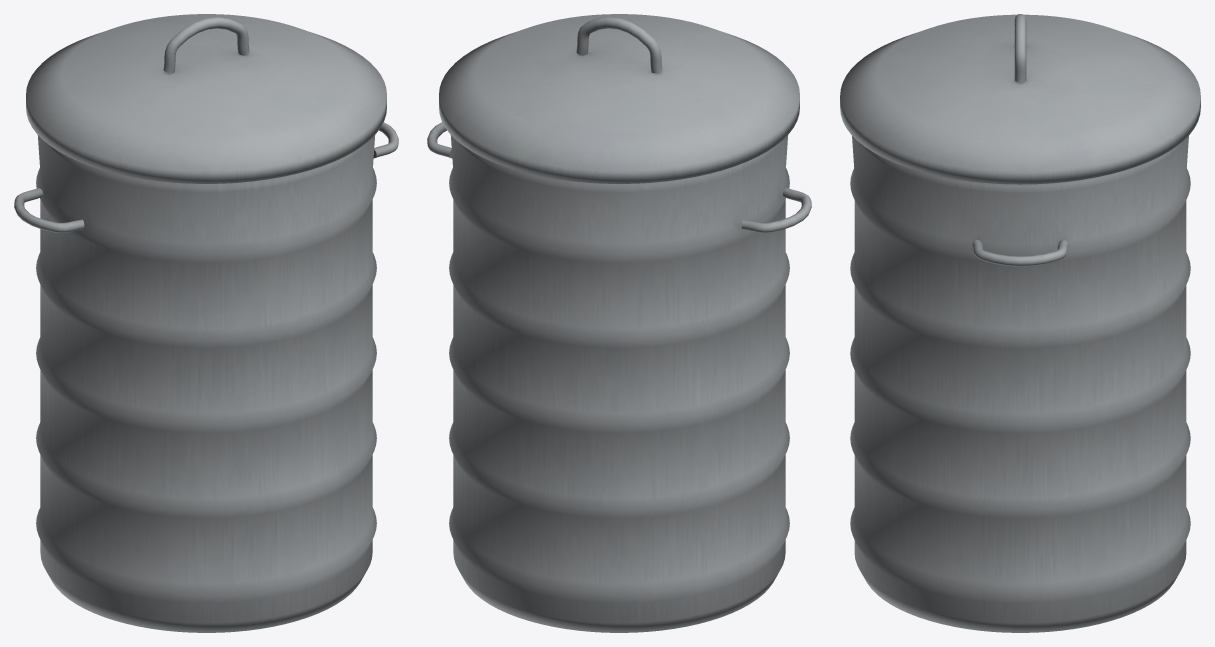
File: galvanized.glb
3 views of the same model, side by side, from view 1: azimuth 30°, elevation 25°; view 2: azimuth 150°, elevation 25°; view 3: azimuth 270°, elevation 25° (orthographic).
Visible parts, largest first — view 1: galvanized; view 2: galvanized; view 3: galvanized.
Boxes of the visible parts, x1,y1,x2,y2 form: galvanized: [14, 14, 398, 632]; galvanized: [427, 14, 811, 632]; galvanized: [840, 14, 1200, 632].
Bounding box in the file's own units: 0.5897 × 0.8356 × 0.5.
1 material, 1 textured.
